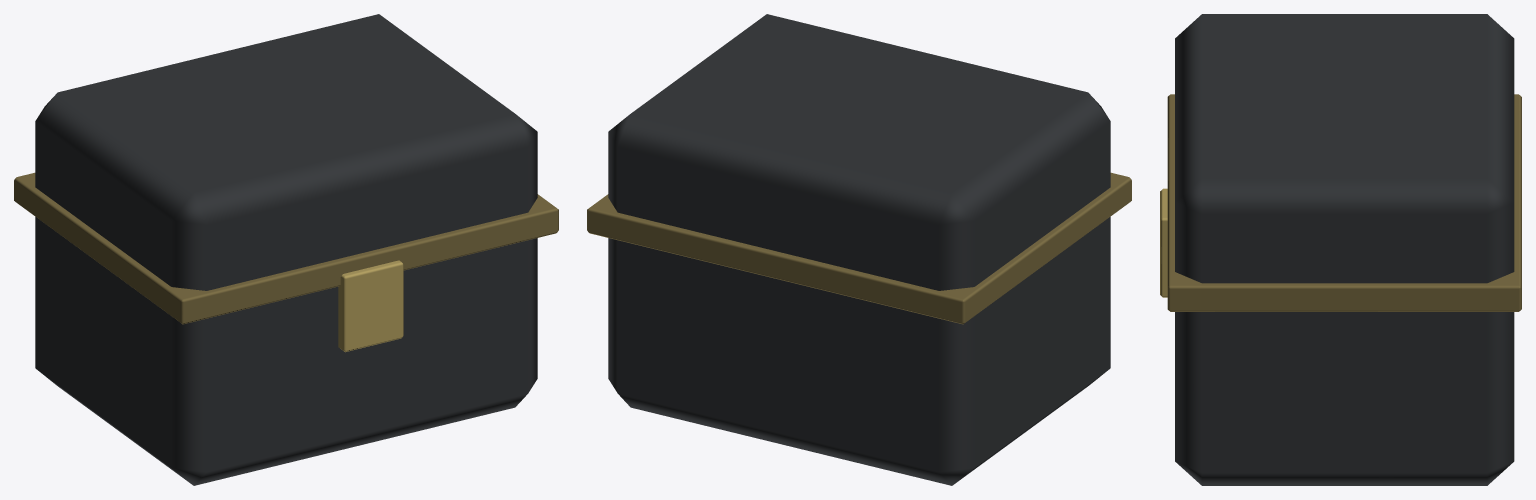
The model's file is strongbox.4b98089c.glb.
3 views of the same model, side by side, from view 1: azimuth 30°, elevation 25°; view 2: azimuth 150°, elevation 25°; view 3: azimuth 270°, elevation 25° (orthographic). The views are drawn at different scales.
Parts seen in each view (by area): view 1: body; view 2: body; view 3: body.
Part boxes in pixels (x1=…): body: x1=14, y1=14, x2=558, y2=485; body: x1=587, y1=14, x2=1131, y2=485; body: x1=1160, y1=14, x2=1521, y2=485.
Size of the model in its own units: 0.62 by 0.46 by 0.49.
